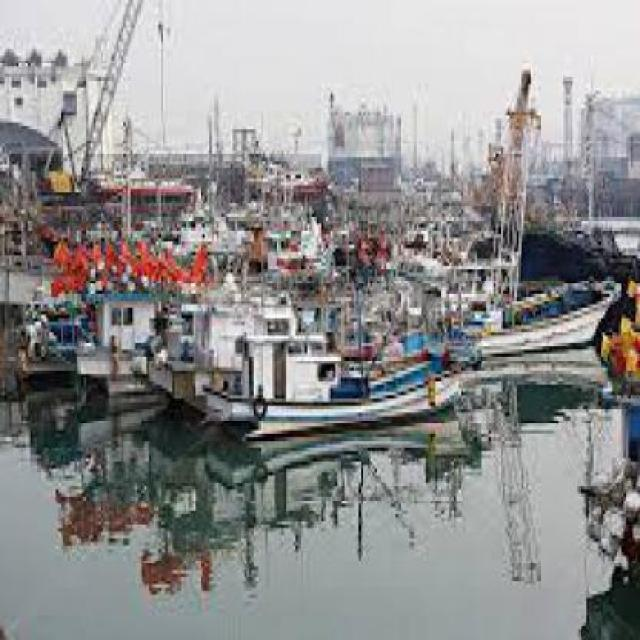fish-b: (192, 291, 481, 459)
